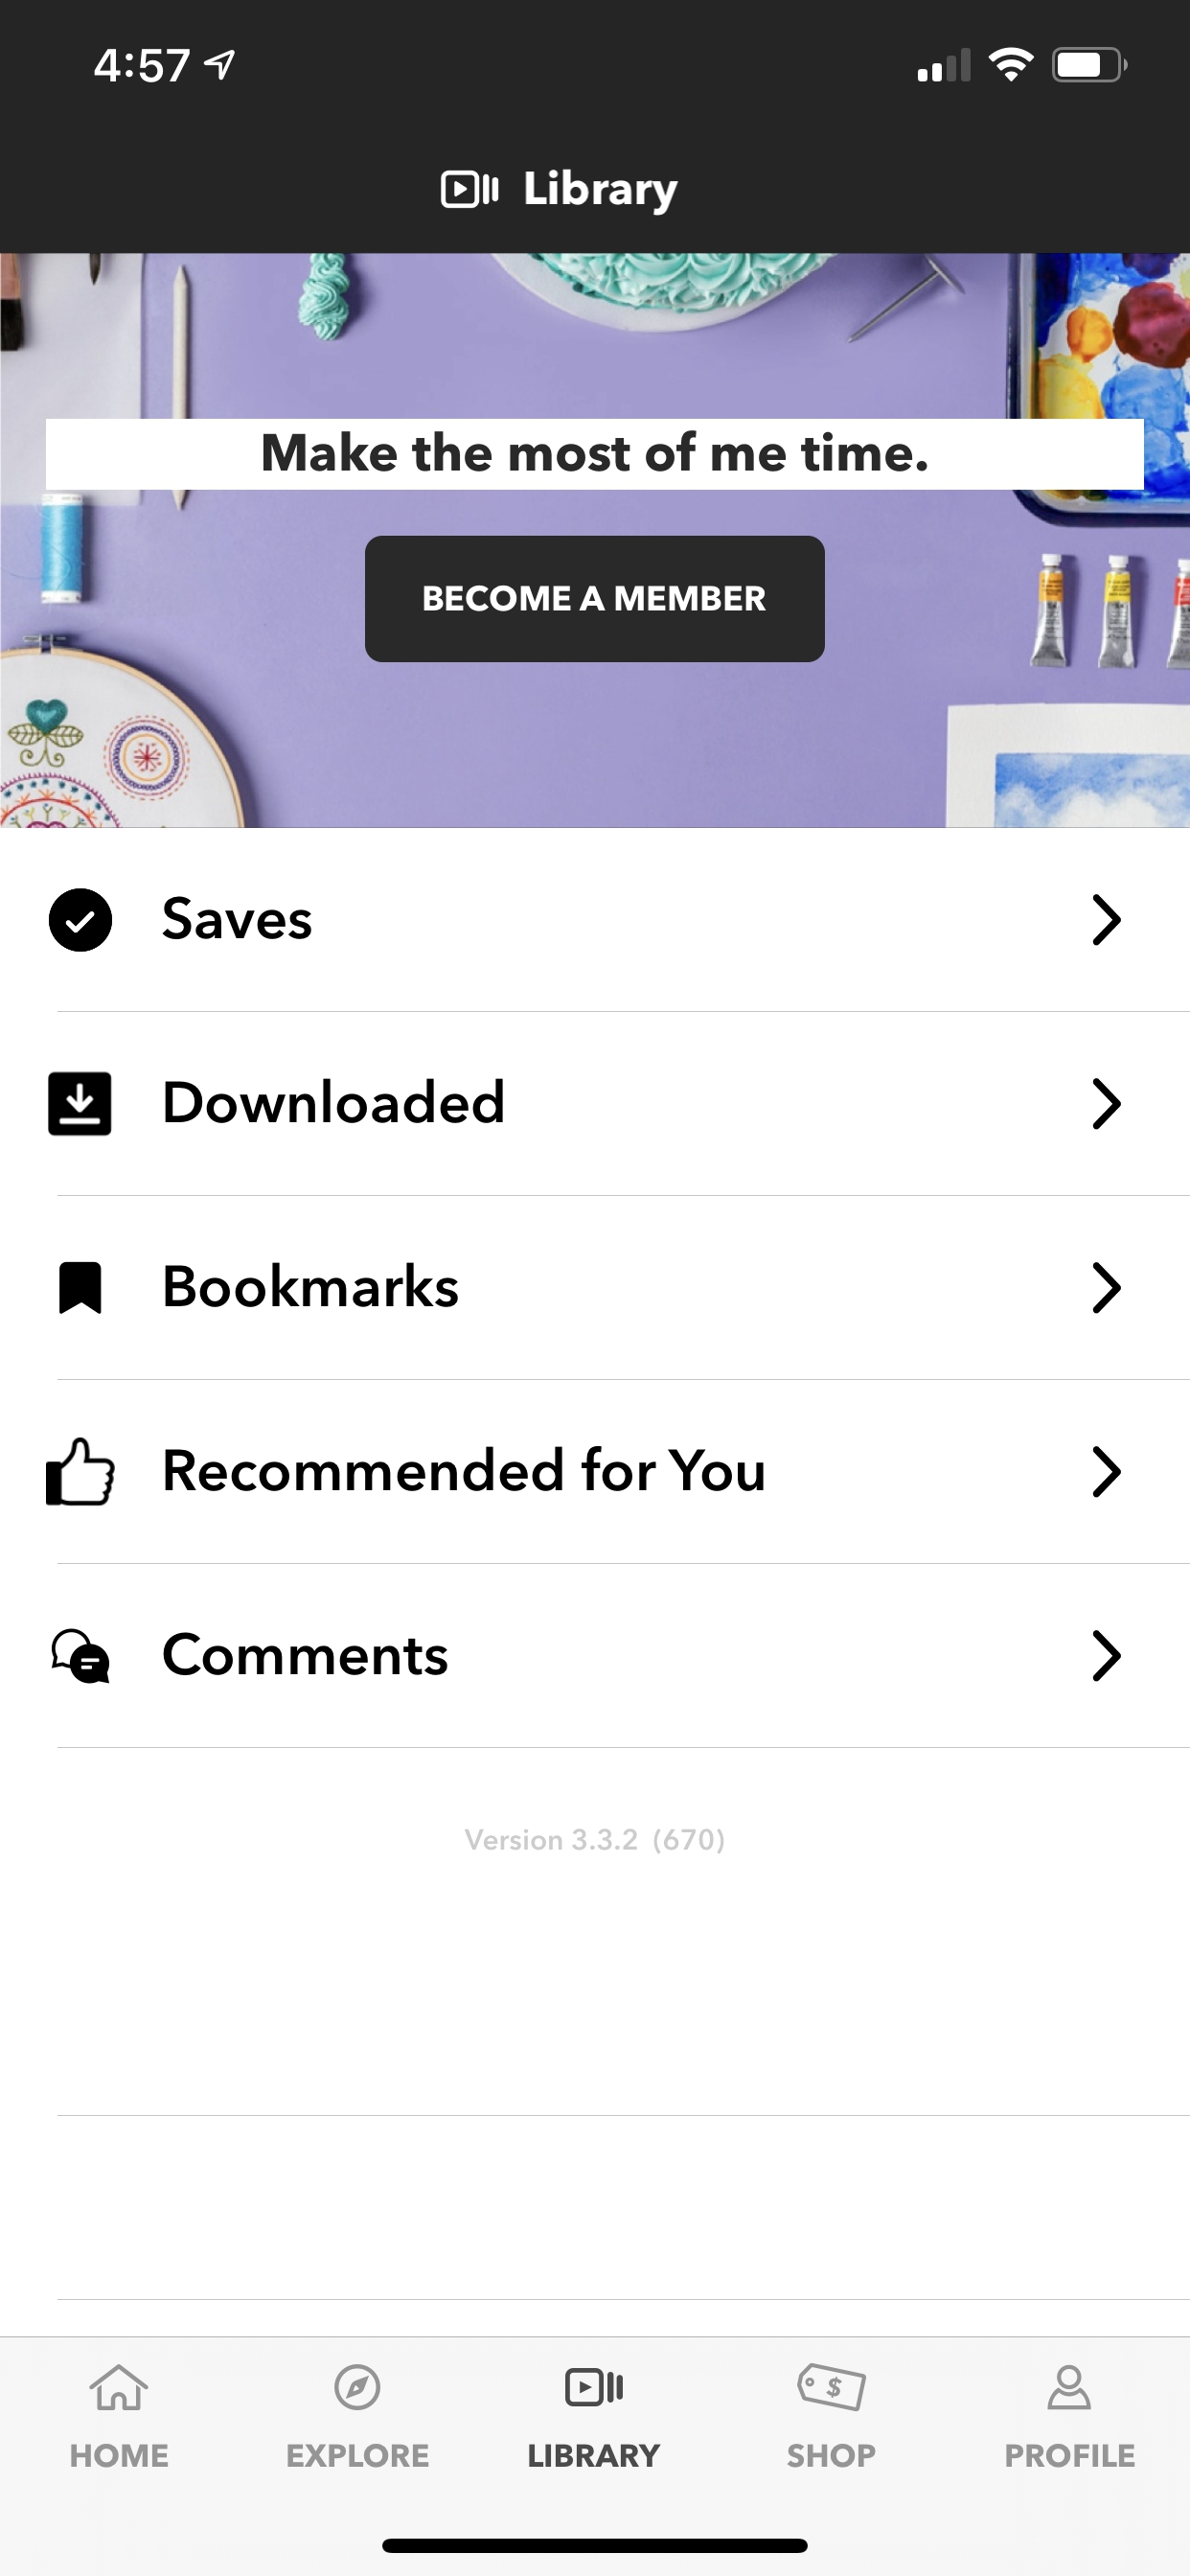Icon: (46, 1437, 117, 1506), (48, 1071, 113, 1137), (49, 889, 113, 951), (797, 2362, 866, 2412), (51, 1628, 110, 1684), (89, 2364, 148, 2410), (440, 169, 500, 210), (565, 2367, 623, 2407), (59, 1262, 102, 1314), (334, 2362, 380, 2410), (1047, 2364, 1091, 2410), (1093, 1630, 1121, 1682), (1093, 1446, 1121, 1498), (1093, 1262, 1121, 1314), (1093, 1078, 1121, 1130), (1093, 894, 1121, 946)
Image: (2, 255, 1190, 828)
Text: (164, 1446, 764, 1492), (263, 430, 927, 471), (164, 1078, 503, 1124), (164, 1262, 459, 1308), (163, 1631, 447, 1676), (524, 169, 679, 217), (465, 1827, 723, 1855), (163, 895, 311, 940), (288, 2443, 429, 2468), (529, 2445, 661, 2468), (1006, 2445, 1136, 2468), (71, 2443, 169, 2468), (787, 2445, 876, 2468)
TextButton: (365, 536, 825, 664)
UpperTaskBar: (95, 48, 1128, 84)
